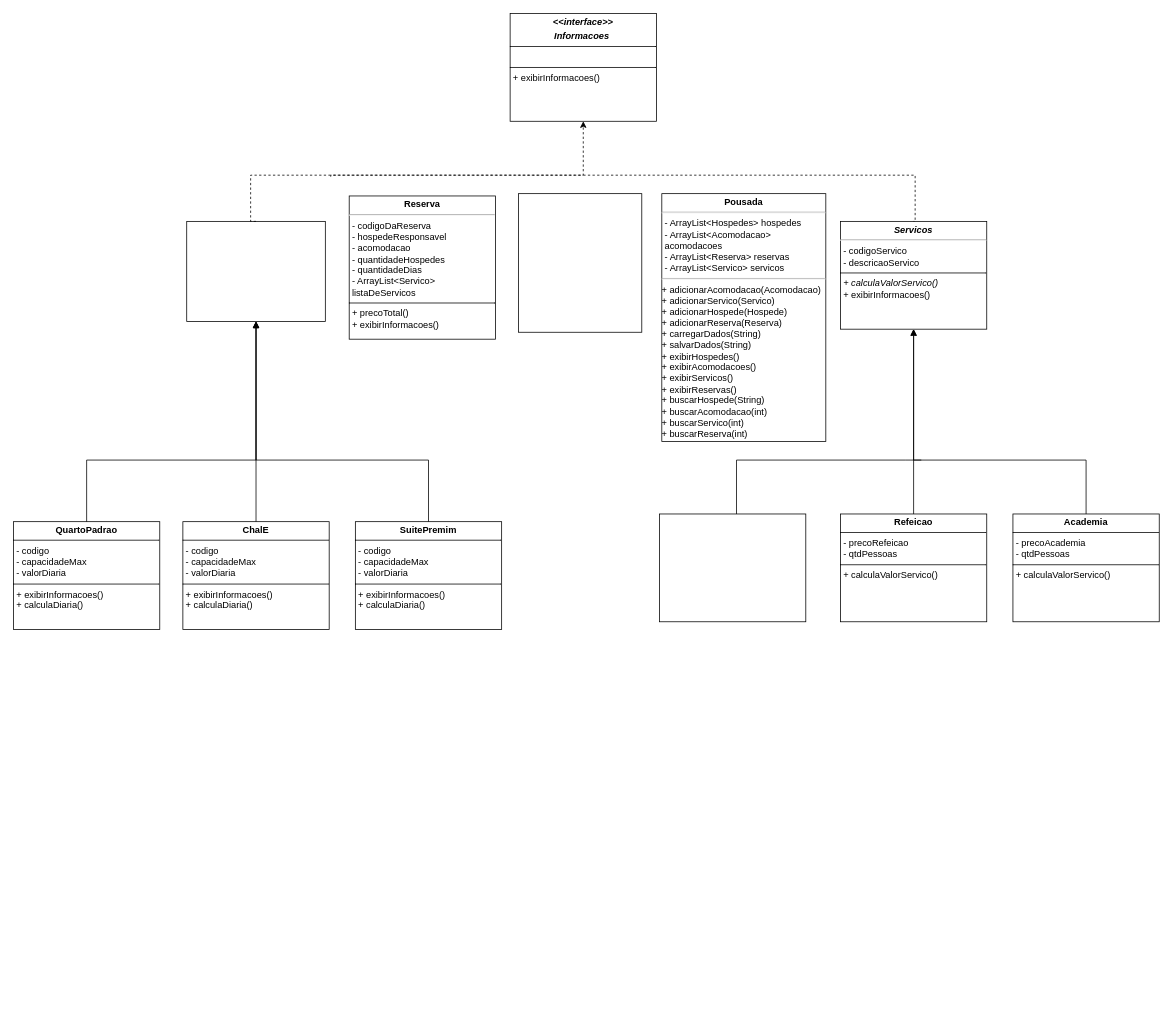
Image size: 1173x1019. Some labels were removed from this diagram. Here are the shapes that lost their labels. From the top down, the centre of each, then its label:
(x=255, y=271): Acomodacao - codigo - capacidadeMax - valorDiaria + calculaDiaria()
(x=580, y=262): Hospedes - nome - idade - CPF + validarCPF() + exibirInformacoes()
(x=732, y=567): Passeio - precoPasseio - qtdPessoas + calculaValorServico()
